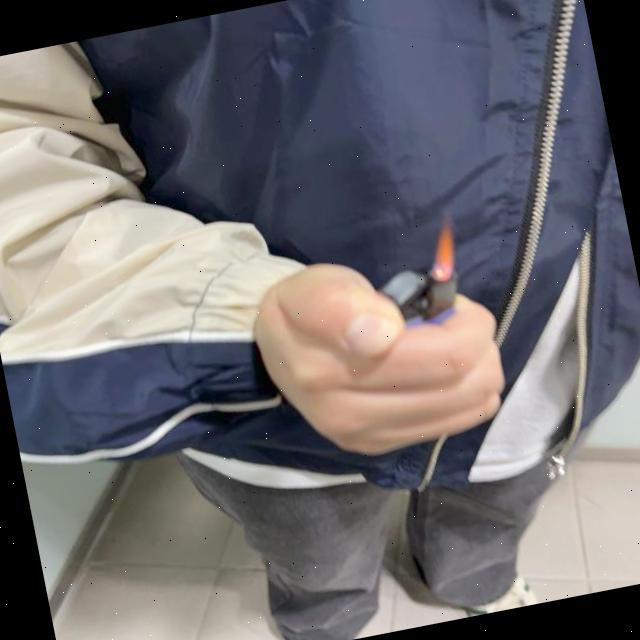fire: (422, 220, 464, 284)
